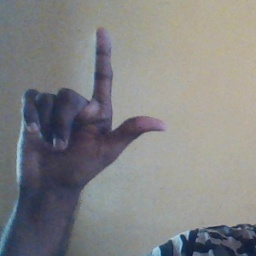L: (14, 25, 167, 195)
